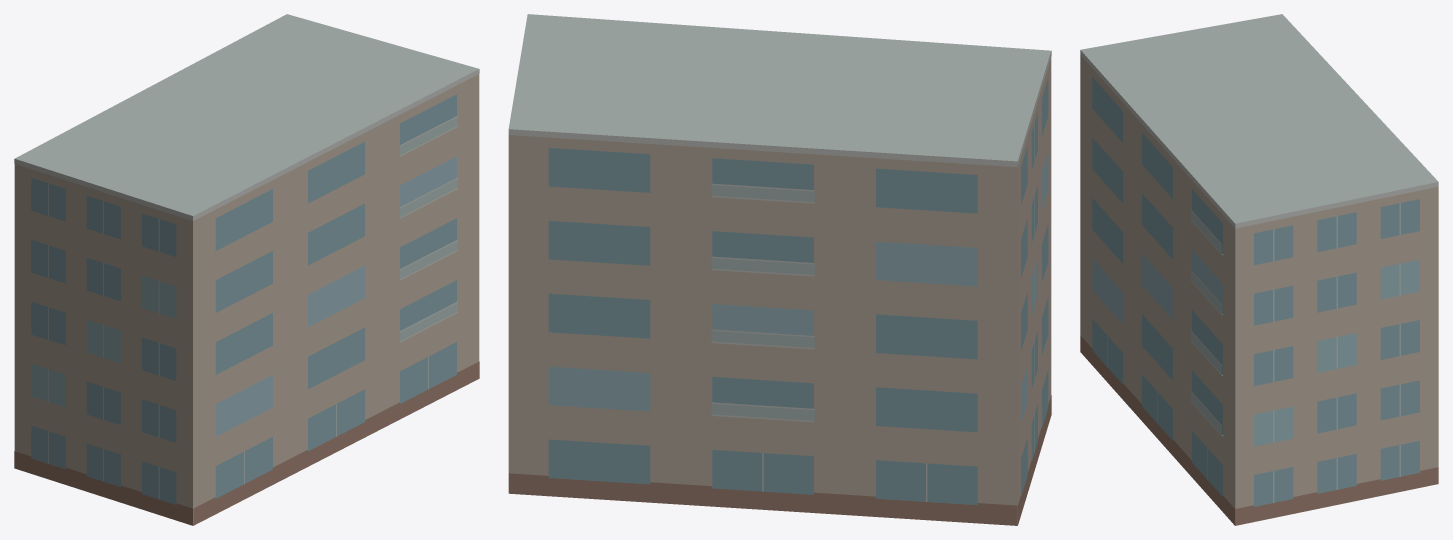
File: survey-upis-32465781.glb
3 views of the same model, side by side, from view 1: azimuth 30°, elevation 25°; view 2: azimuth 150°, elevation 25°; view 3: azimuth 270°, elevation 25° (orthographic). The views are drawn at different scales.
Visible parts, largest first — view 1: survey-upis-32465781.tmp; view 2: survey-upis-32465781.tmp; view 3: survey-upis-32465781.tmp.
Boxes of the visible parts, x1,y1,x2,y2 form: survey-upis-32465781.tmp: (14, 14, 479, 525); survey-upis-32465781.tmp: (508, 14, 1051, 525); survey-upis-32465781.tmp: (1080, 14, 1438, 525).
Bounding box in the file's own units: 22.79 × 15.3 × 16.46.
